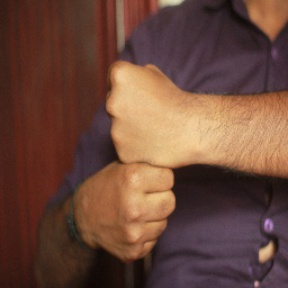G: (82, 56, 189, 264)
